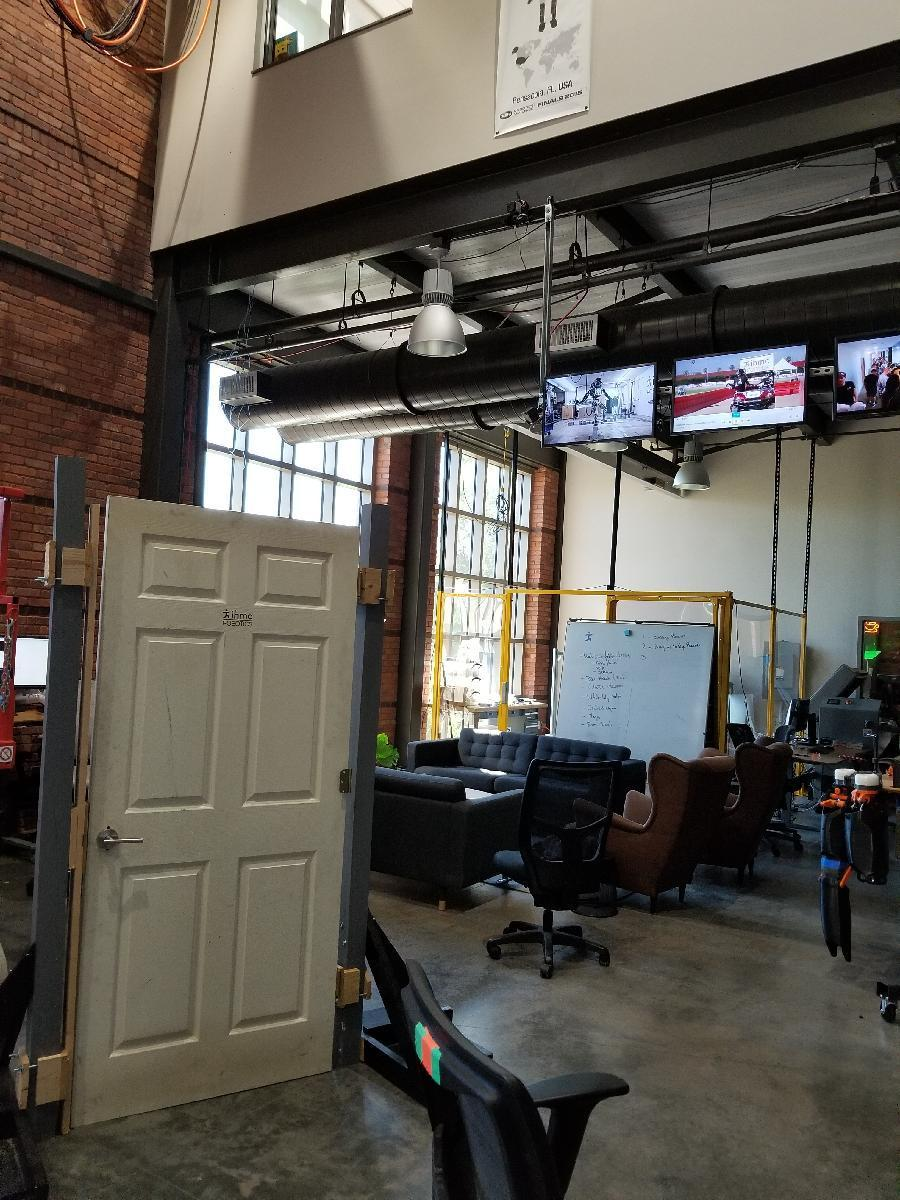door: (101, 498, 346, 1089)
handle: (99, 820, 146, 861)
